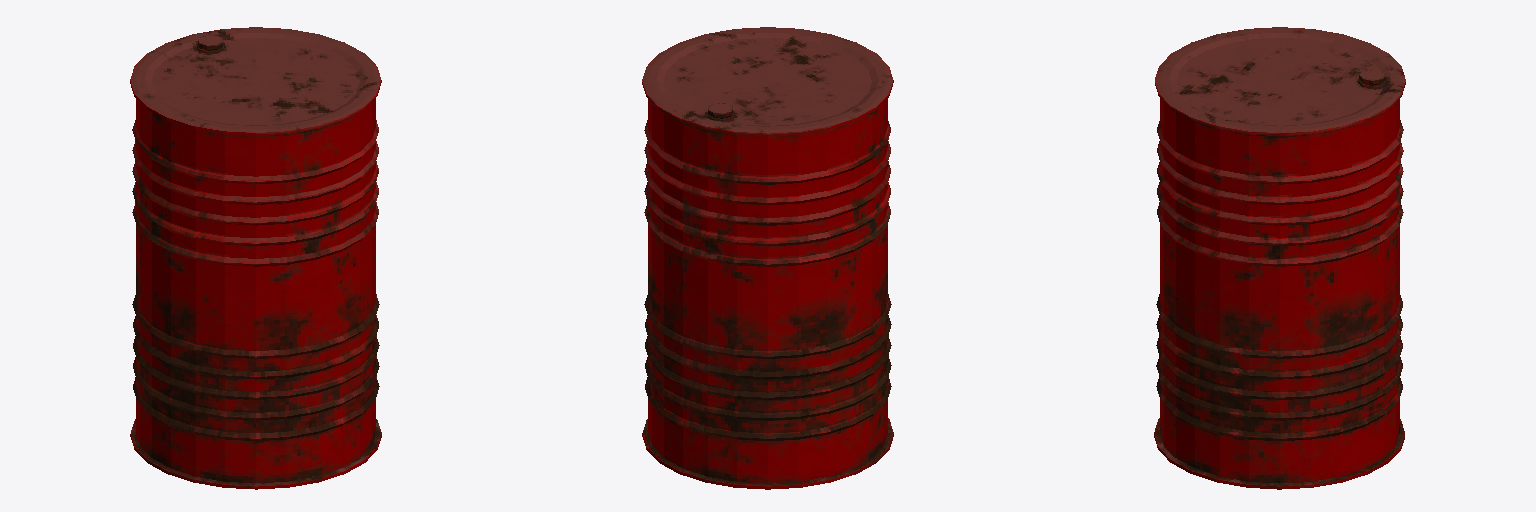
The picture shows the model from 3 angles: view 1: azimuth 30°, elevation 25°; view 2: azimuth 150°, elevation 25°; view 3: azimuth 270°, elevation 25°; orthographic projection.
Visible parts, largest first — view 1: Barrel_02_Mesh.030; view 2: Barrel_02_Mesh.030; view 3: Barrel_02_Mesh.030.
Part boxes in pixels (x1,y1,x2,y2): Barrel_02_Mesh.030: (130,27,381,489); Barrel_02_Mesh.030: (642,27,893,489); Barrel_02_Mesh.030: (1154,27,1405,489).
Bounding box in the file's own units: 0.722 × 1.15 × 0.7238.
Materials: 1 (1 with a texture image).